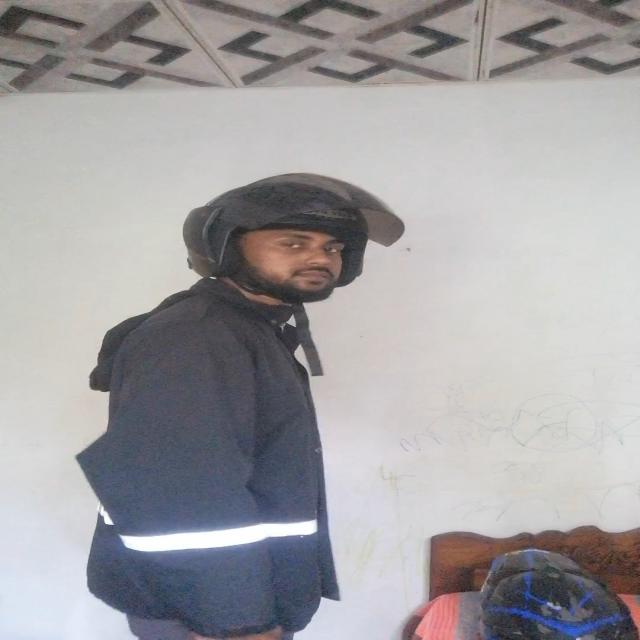Helmet_Wearer: (166, 170, 406, 315)
Jacket_Wearer: (83, 276, 349, 640)
Person: (90, 171, 445, 640)
